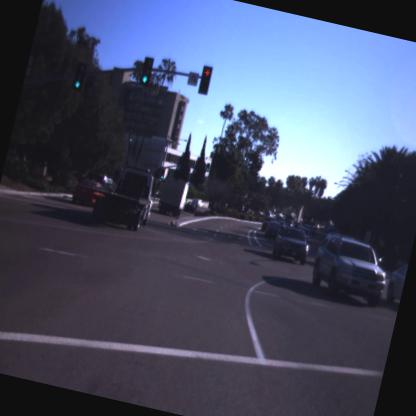trafficlight: (135, 53, 156, 89), (196, 63, 216, 96)
